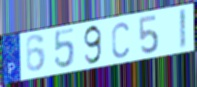5: (53, 26, 76, 72), (137, 13, 160, 56)
6: (25, 32, 47, 77)
9: (82, 24, 103, 66)
C: (110, 21, 131, 60)
I: (178, 7, 188, 51)
